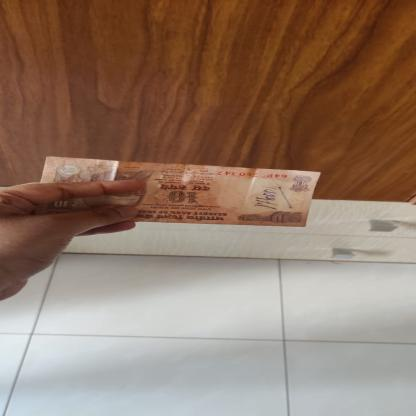Old10Front: (40, 156, 320, 228)
